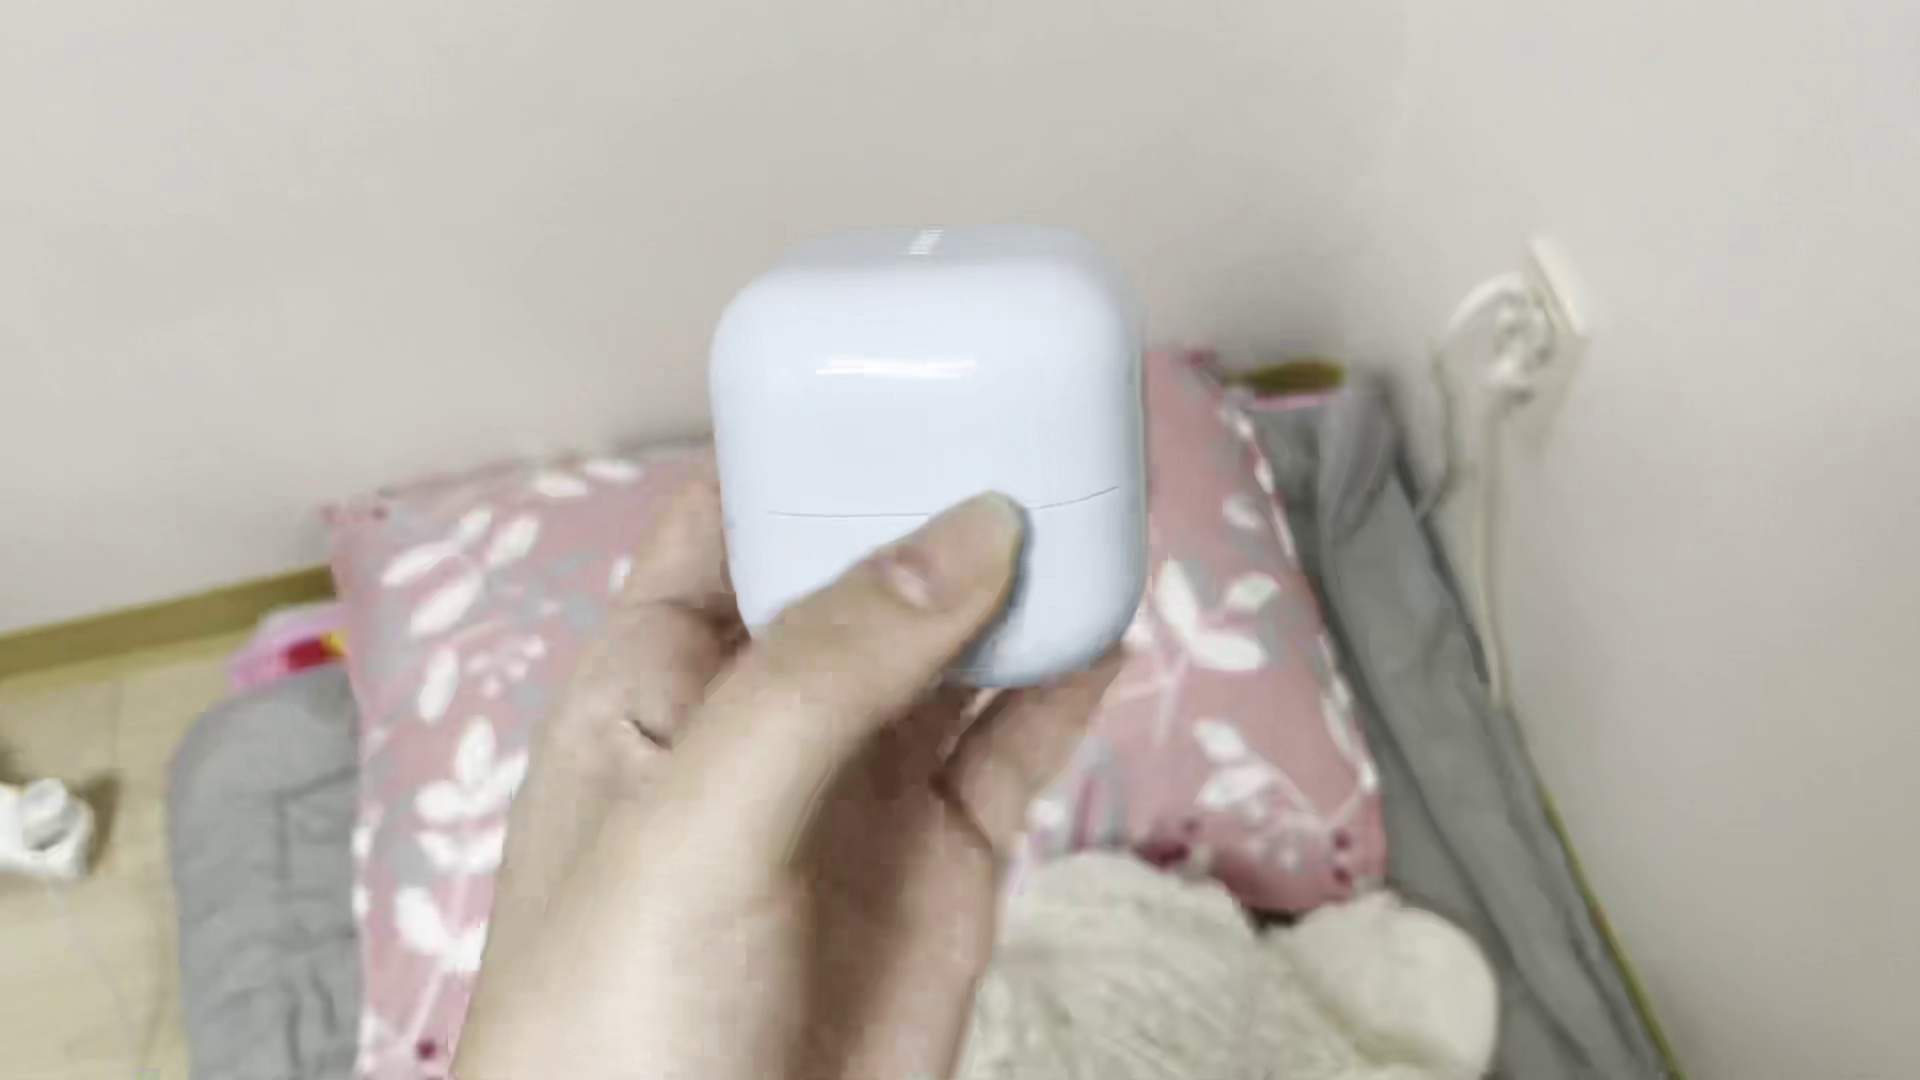cream: (712, 225, 1149, 665)
